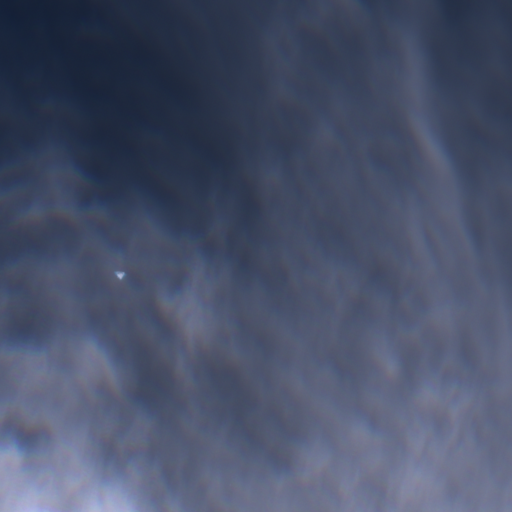Iceberg: (115, 272, 125, 278)
